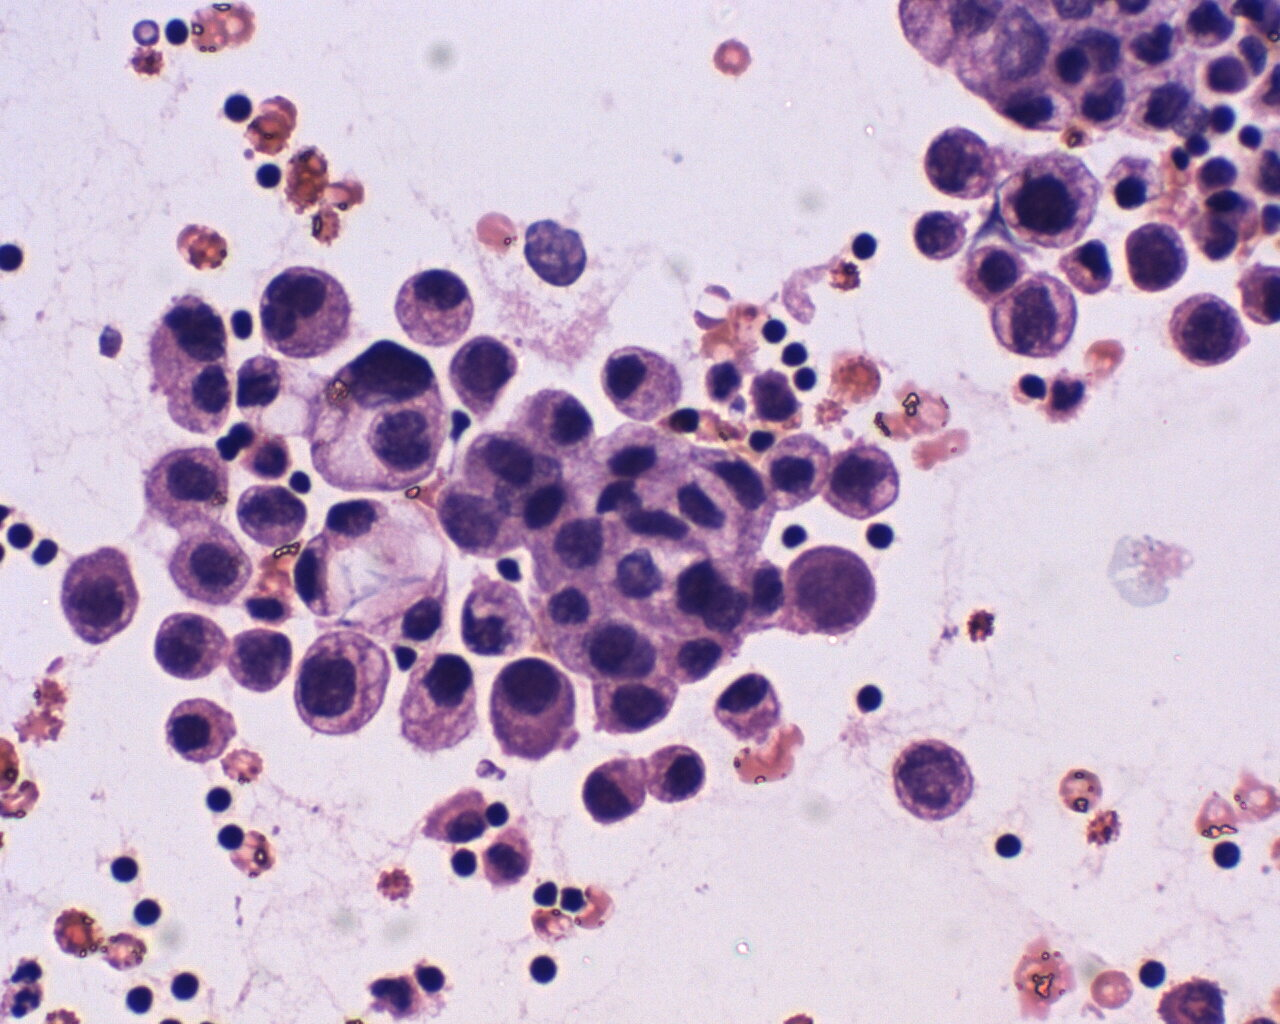ab: (305, 331, 460, 492), (997, 144, 1108, 251), (288, 629, 394, 739), (256, 261, 353, 360), (488, 656, 578, 762), (50, 544, 140, 648), (787, 542, 876, 639), (168, 513, 257, 608), (990, 270, 1080, 362), (890, 734, 977, 819), (821, 438, 908, 522), (921, 122, 1005, 203), (448, 327, 521, 420), (1167, 287, 1251, 365), (229, 478, 318, 548), (149, 604, 226, 684), (1119, 217, 1192, 296)
lymph: (523, 947, 567, 993), (1207, 835, 1252, 879), (104, 850, 148, 889), (848, 226, 889, 266), (202, 779, 240, 813), (992, 827, 1026, 862)
